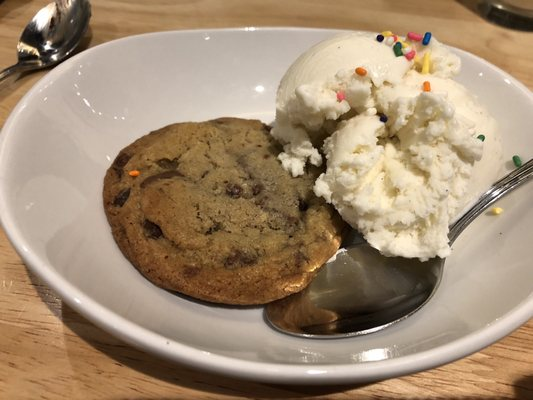burger: (447, 156, 533, 249)
salad: (0, 0, 93, 84)
